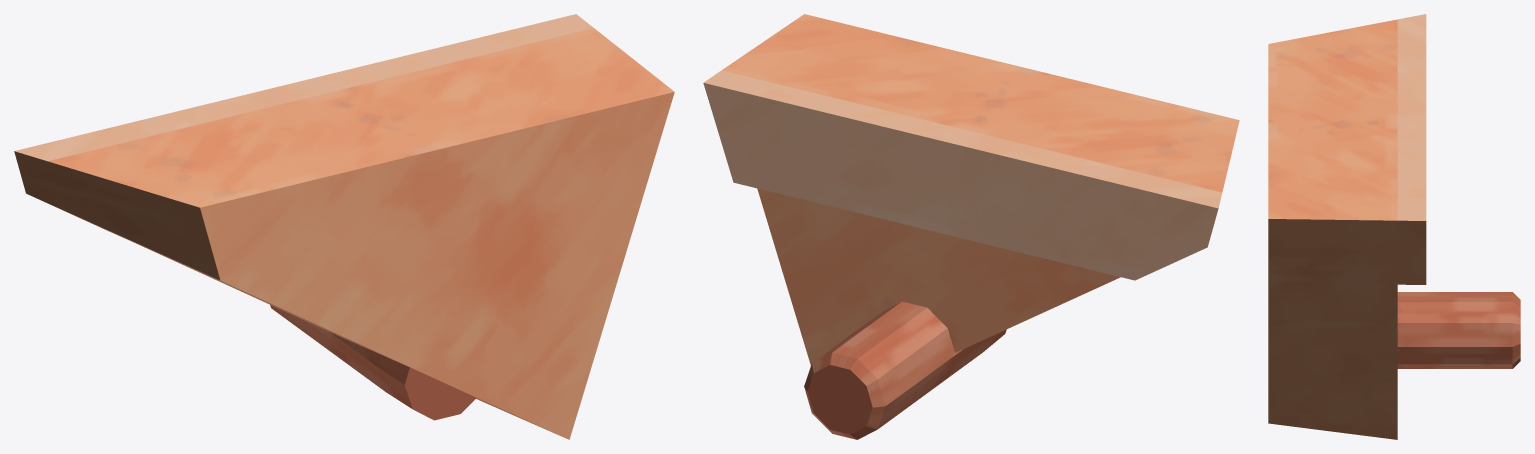
The model's file is wall2_upper_window_s03.fbx.
The picture shows the model from 3 angles, left to right: view 1: azimuth 30°, elevation 25°; view 2: azimuth 150°, elevation 25°; view 3: azimuth 270°, elevation 25°; orthographic projection. The views are drawn at different scales.
Visible parts, largest first — view 1: wall2_upper_window_s03; view 2: wall2_upper_window_s03; view 3: wall2_upper_window_s03.
Part boxes in pixels (box(x1,y1,x2,y2)): wall2_upper_window_s03: box(14, 14, 674, 439); wall2_upper_window_s03: box(703, 14, 1239, 439); wall2_upper_window_s03: box(1268, 14, 1520, 439).
Bounding box in the file's own units: 3.79 × 2.23 × 1.95.
